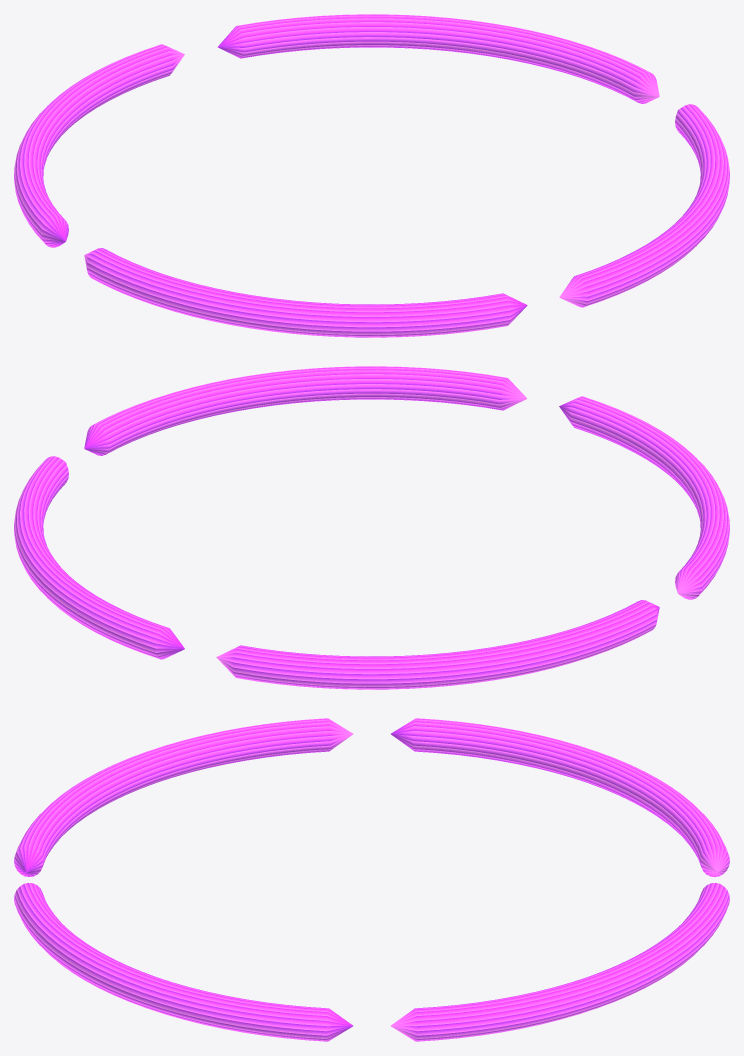
File: RingTwo.gltf
3 views of the same model, one above another, from view 1: azimuth 30°, elevation 25°; view 2: azimuth 150°, elevation 25°; view 3: azimuth 270°, elevation 25° (orthographic).
Visible parts, largest first — view 1: Object 1; view 2: Object 1; view 3: Object 1.
Boxes of the visible parts, x1=… form: Object 1: x1=14, y1=14, x2=729, y2=337; Object 1: x1=14, y1=366, x2=729, y2=689; Object 1: x1=14, y1=718, x2=729, y2=1041.
Bounding box in the file's own units: 0.1448 × 0.00694 × 0.1448.
1 material, 1 textured.
